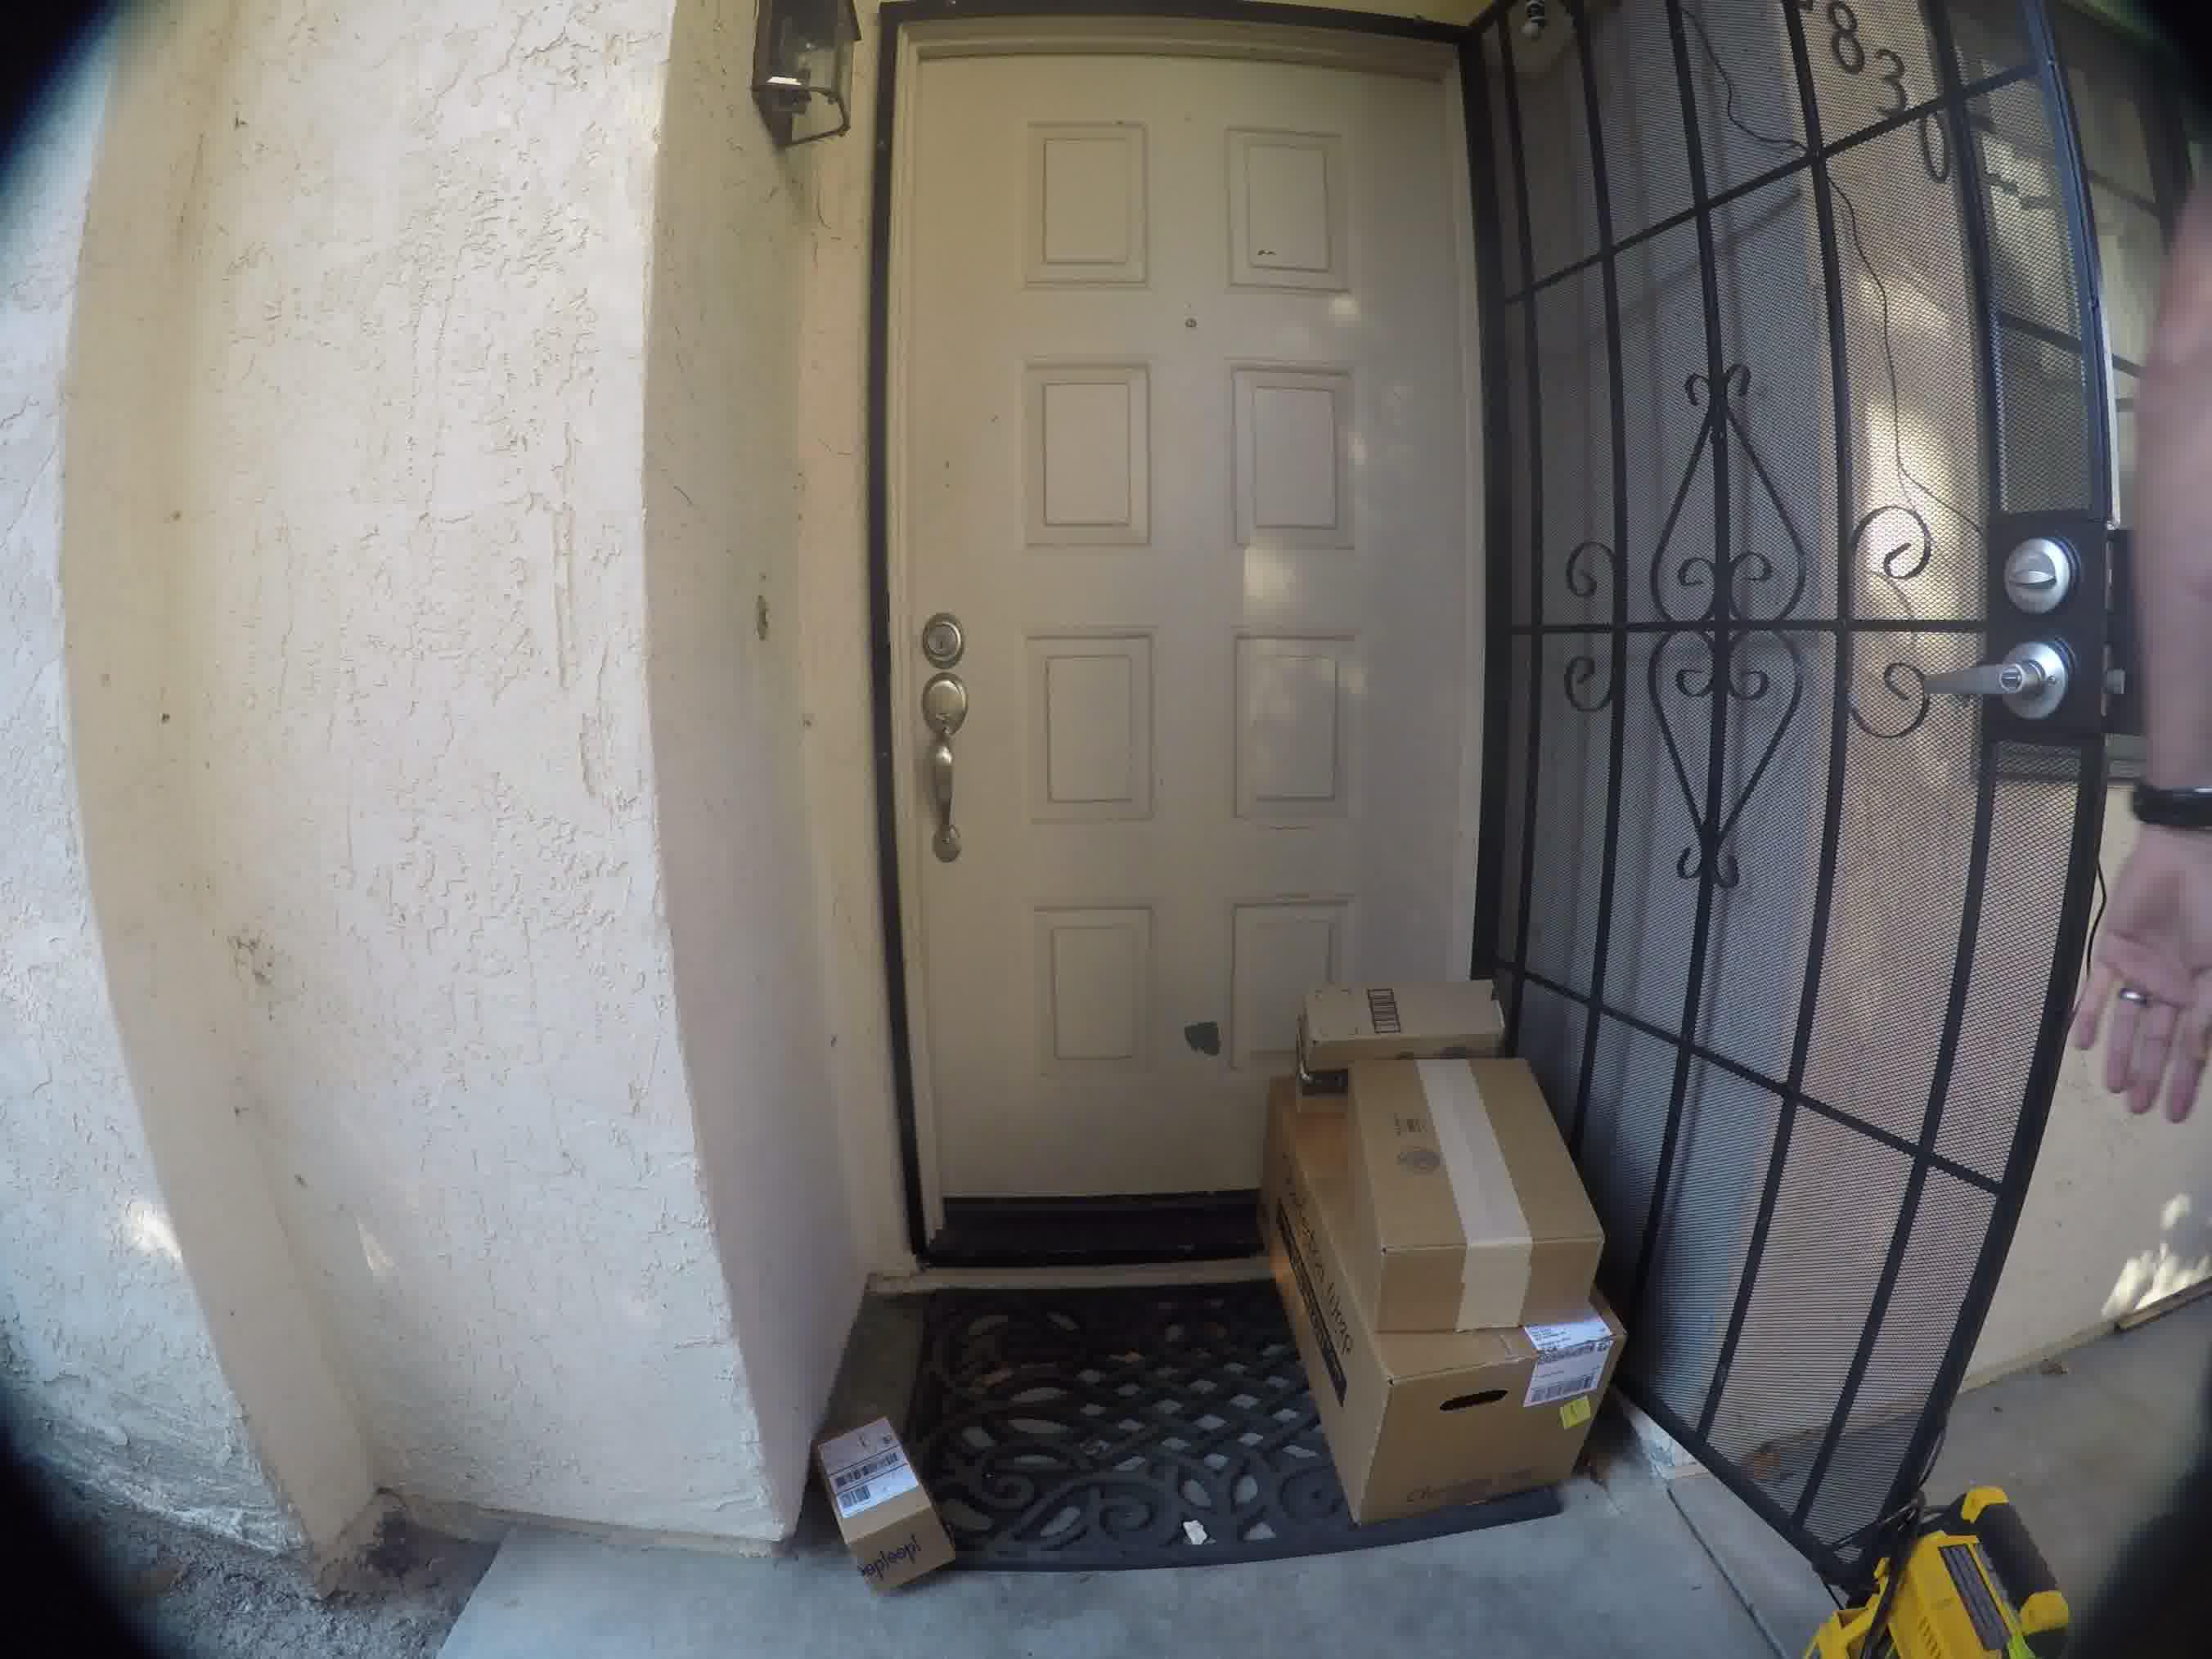box: (1327, 1056, 1599, 1324), (1334, 1321, 1629, 1513), (791, 1412, 951, 1588)
